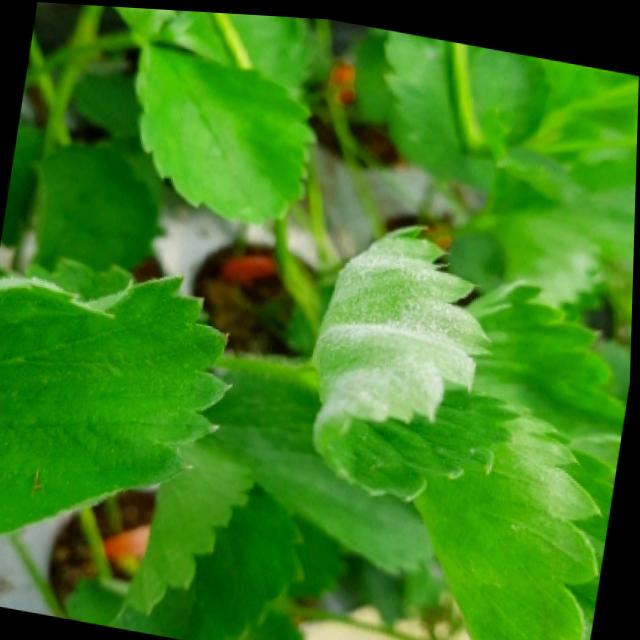Powdery Mildew Leaf: (0, 269, 234, 533), (314, 219, 524, 498)
